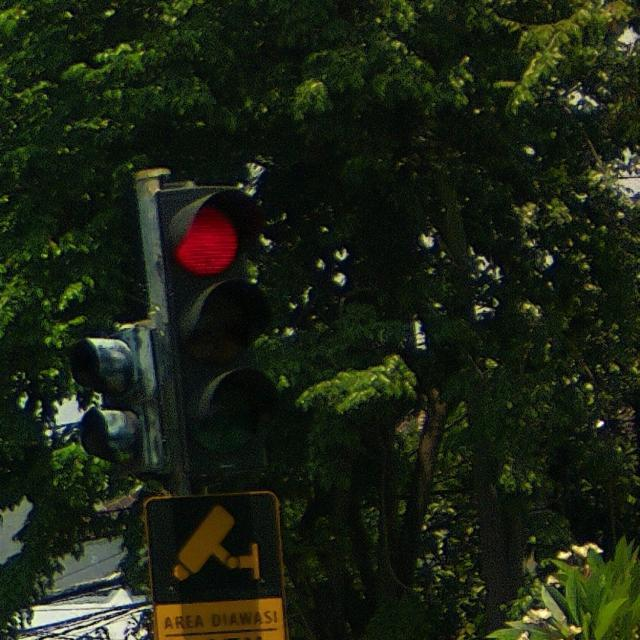traffic light: (157, 181, 276, 478), (70, 323, 162, 477)
